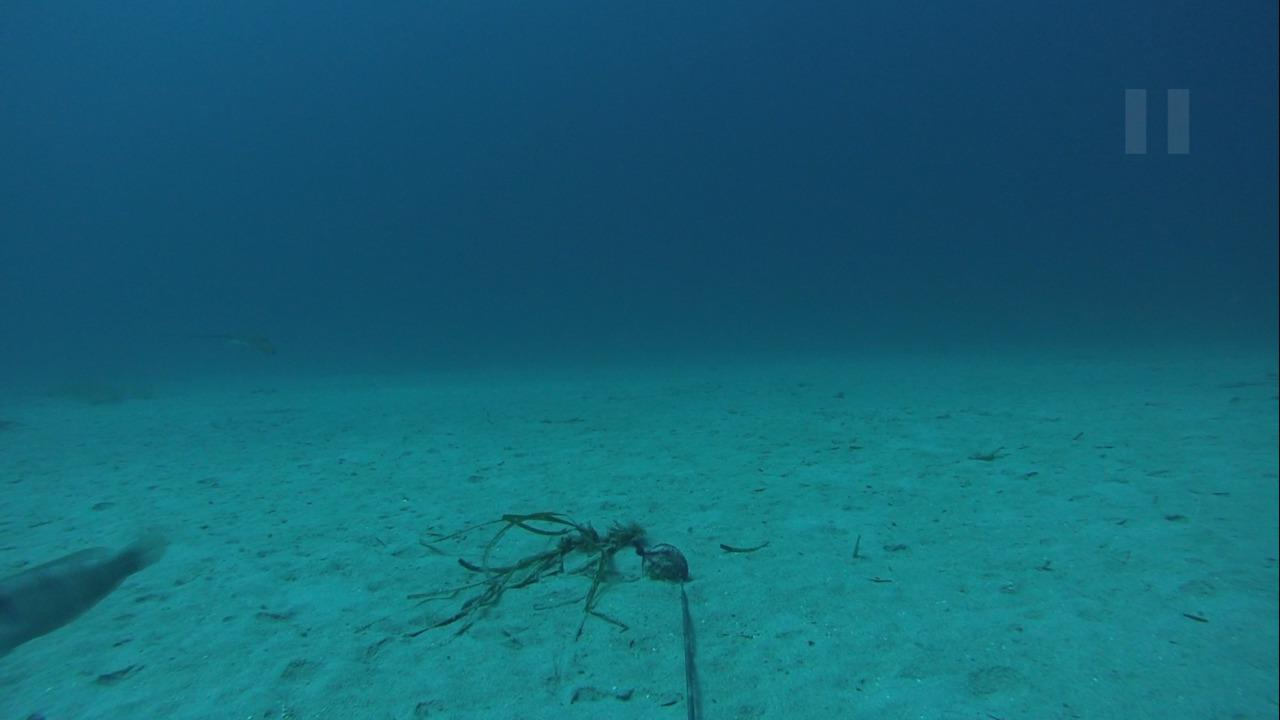myliobatis: (135, 314, 289, 370)
raor: (9, 521, 175, 665)
